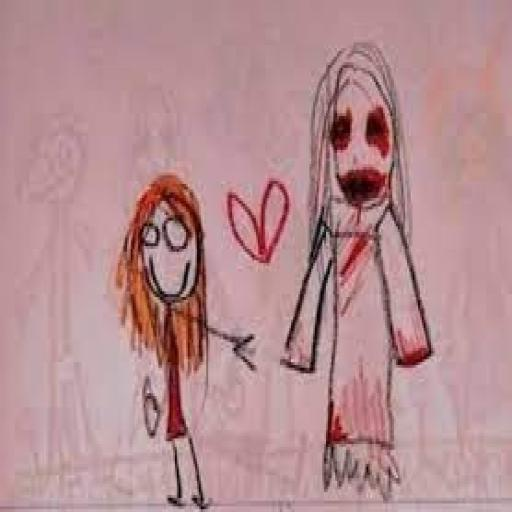person: (272, 32, 452, 512), (106, 161, 259, 512)
